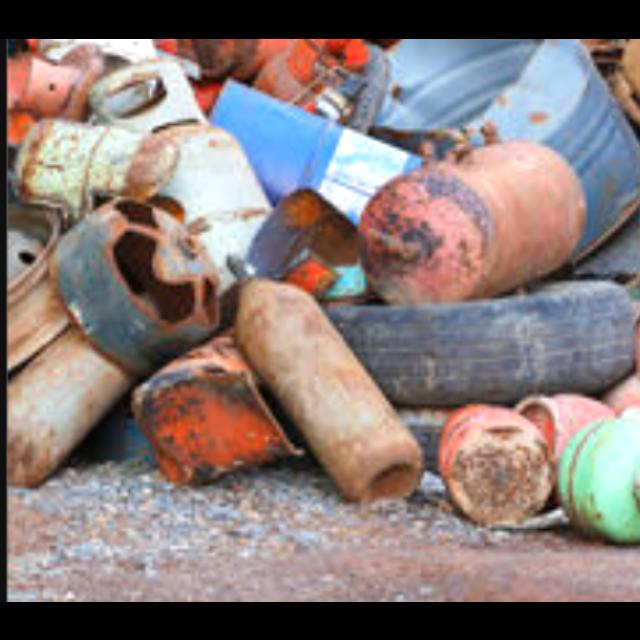Cylinders: (83, 50, 280, 288)
